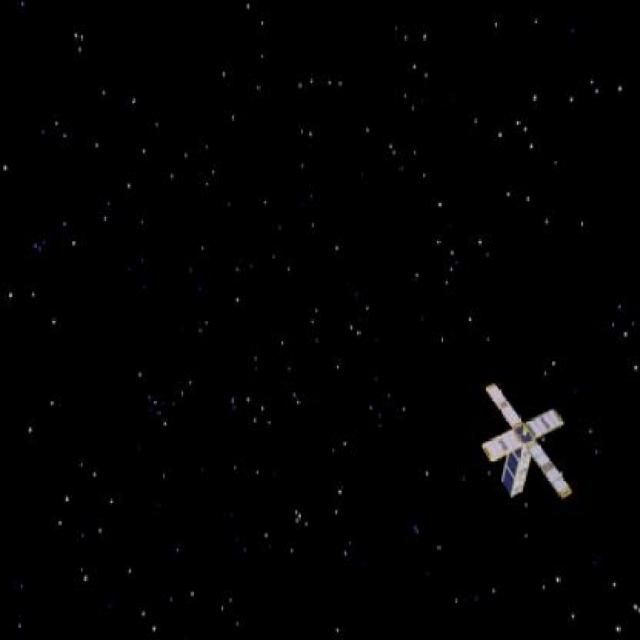satellite: (467, 384, 581, 512)
